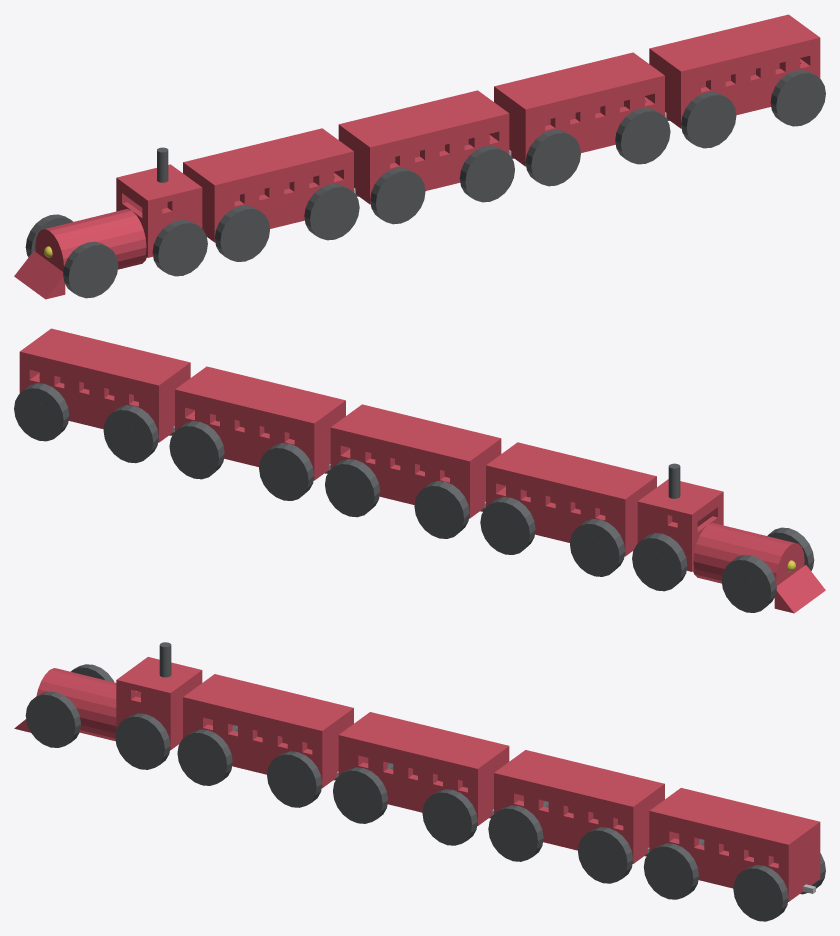
File: Train.glb
3 views of the same model, one above another, from view 1: azimuth 30°, elevation 25°; view 2: azimuth 150°, elevation 25°; view 3: azimuth 330°, elevation 25° (orthographic).
Visible parts, largest first — view 1: Mesh_Mesh_head_geo.001_lambert2SG.001; view 2: Mesh_Mesh_head_geo.001_lambert2SG.001; view 3: Mesh_Mesh_head_geo.001_lambert2SG.001.
Part boxes in pixels (box(x1,y1,x2,y2)): Mesh_Mesh_head_geo.001_lambert2SG.001: box(14, 14, 825, 299); Mesh_Mesh_head_geo.001_lambert2SG.001: box(14, 328, 825, 613); Mesh_Mesh_head_geo.001_lambert2SG.001: box(14, 642, 825, 921).
Bounding box in the file's own units: 158 × 21.17 × 15.
